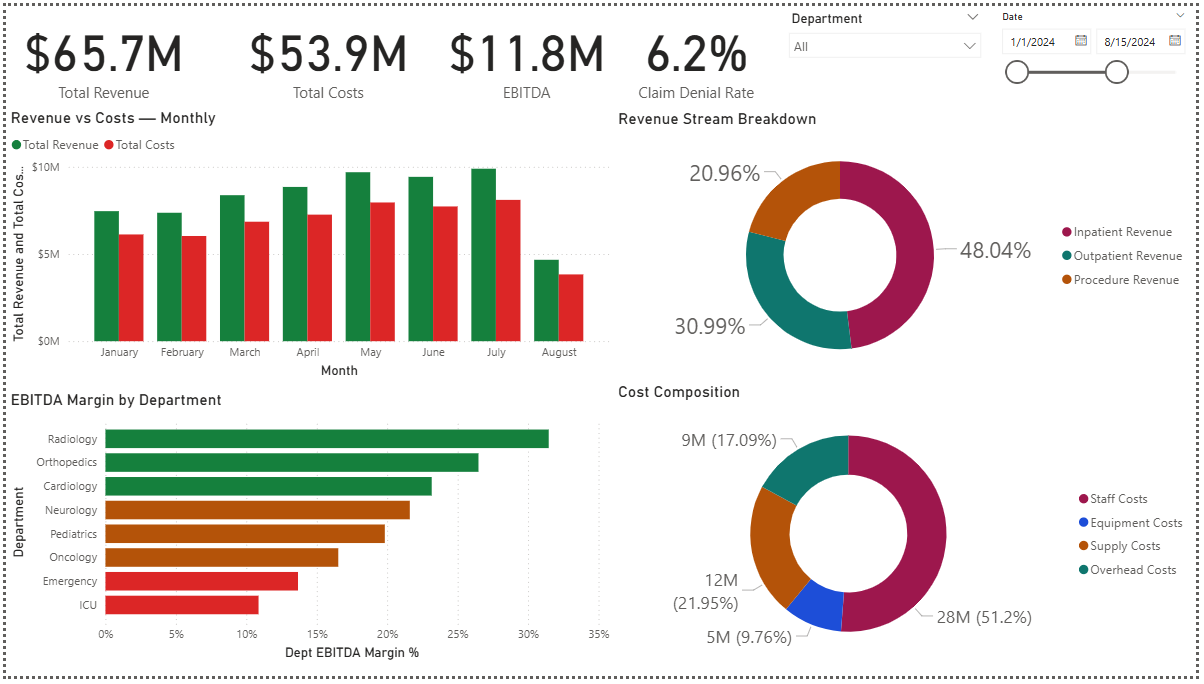

Layout of this report page (visuals, bound fields, positions):
{"tool":"powerbi","page":{"name":"Financial Performance","canvas":[1280,720],"ordinal":3},"visuals":[{"type":"slicer","fields":{"Values":["Daily_KPIs.Date"]},"box":[1058.5,0,221.9,109.3],"z":0},{"type":"slicer","fields":{"Values":["Department_Daily.Department"]},"box":[831.4,0,227.1,109.3],"z":1000},{"type":"card","fields":{"Values":["_Measures.Total Revenue"]},"box":[0,0,210,109.3],"z":2000},{"type":"card","fields":{"Values":["_Measures.Total Costs"]},"box":[247.5,0,196.3,109.3],"z":3000},{"type":"card","fields":{"Values":["_Measures.EBITDA"]},"box":[464.4,0,189.5,109.3],"z":4000},{"type":"card","fields":{"Values":["_Measures.Avg Denial Rate %"]},"box":[653.9,0,177.5,109.3],"z":5000},{"type":"clusteredColumnChart","title":"Revenue vs Costs — Monthly","fields":{"Category":["Daily_KPIs.Date.Variation.Date Hierarchy.Month"],"Y":["_Measures.Total Revenue","_Measures.Total Costs"]},"box":[0,109.3,653.9,295.3],"z":6000},{"type":"donutChart","title":"Revenue Stream Breakdown","fields":{"Y":["_Measures.Inpatient Revenue","_Measures.Outpatient Revenue","_Measures.Procedure Revenue"]},"box":[653.9,111,626.5,293.6],"z":7000},{"type":"clusteredBarChart","title":"EBITDA Margin by Department","fields":{"Category":["Department_Daily.Department"],"Y":["_Measures.Dept EBITDA Margin %"]},"box":[0,414,654,295],"z":8000},{"type":"donutChart","title":" Cost Composition","fields":{"Y":["_Measures.Staff Costs","_Measures.Equipment Costs","_Measures.Supply Costs","_Measures.Overhead Costs"]},"box":[653.9,404.6,626.5,305.6],"z":9000}]}

Visuals, with their boxes in screenshot pixels (x1, y1, x2, y2), scaled from the page's 1280x720 canvas onto the 1204x684 screenshot:
slicer - Daily_KPIs.Date: (x1=996, y1=0, x2=1203, y2=104)
slicer - Department_Daily.Department: (x1=782, y1=0, x2=996, y2=104)
card - _Measures.Total Revenue: (x1=0, y1=0, x2=198, y2=104)
card - _Measures.Total Costs: (x1=233, y1=0, x2=417, y2=104)
card - _Measures.EBITDA: (x1=437, y1=0, x2=615, y2=104)
card - _Measures.Avg Denial Rate %: (x1=615, y1=0, x2=782, y2=104)
"Revenue vs Costs — Monthly" clusteredColumnChart: (x1=0, y1=104, x2=615, y2=384)
"Revenue Stream Breakdown" donutChart: (x1=615, y1=105, x2=1203, y2=384)
"EBITDA Margin by Department" clusteredBarChart: (x1=0, y1=393, x2=615, y2=674)
" Cost Composition" donutChart: (x1=615, y1=384, x2=1203, y2=675)
